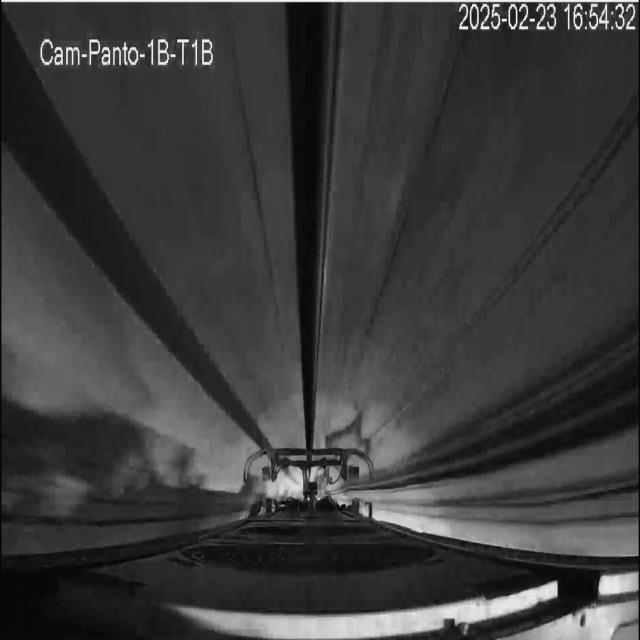Camera Stamp: (33, 26, 220, 71)
Date Stamp: (458, 3, 637, 33)
No - Spark: (244, 446, 375, 516), (281, 397, 373, 488)
